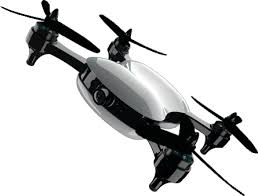Drone: (4, 4, 255, 196)
